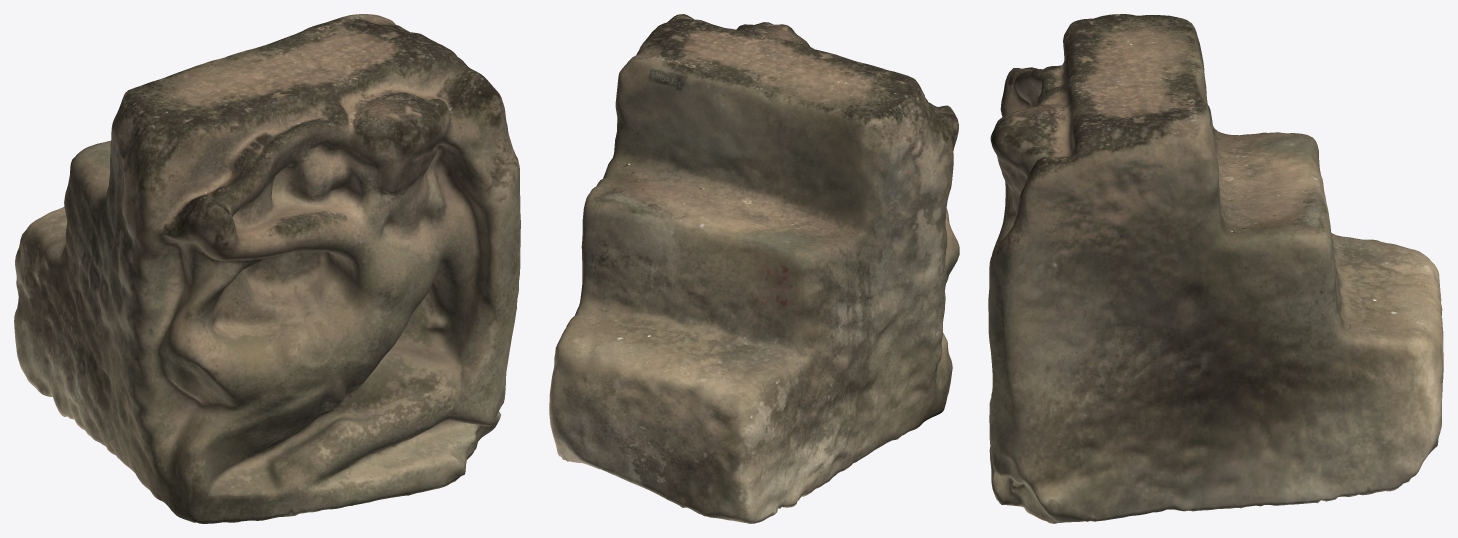
3 views of the same model, side by side, from view 1: azimuth 30°, elevation 25°; view 2: azimuth 150°, elevation 25°; view 3: azimuth 270°, elevation 25° (orthographic). The views are drawn at different scales.
Bounding box in the file's own units: 0.3976 × 0.436 × 0.4599.
1 material, 1 textured.
